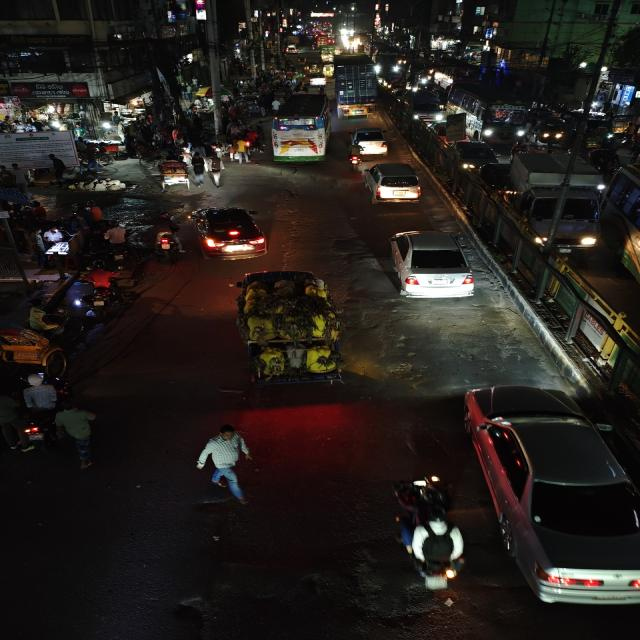bus: (268, 92, 332, 167), (449, 83, 527, 140)
car: (458, 376, 640, 610), (382, 227, 478, 302), (187, 204, 271, 260), (360, 160, 424, 206), (445, 138, 502, 170), (399, 90, 446, 125), (477, 162, 516, 198), (351, 125, 390, 154), (304, 72, 328, 88)
cng: (531, 117, 568, 145)
motorcycle: (388, 472, 468, 594), (8, 374, 64, 455), (81, 263, 129, 324), (98, 223, 138, 269), (147, 214, 185, 260), (346, 143, 366, 171)
pedestrian: (191, 419, 258, 505), (54, 402, 105, 472), (190, 150, 209, 186), (231, 137, 250, 165)
rickshaw: (229, 266, 350, 398), (0, 304, 90, 374), (147, 156, 195, 194)
truck: (511, 150, 603, 257), (332, 58, 380, 120)
